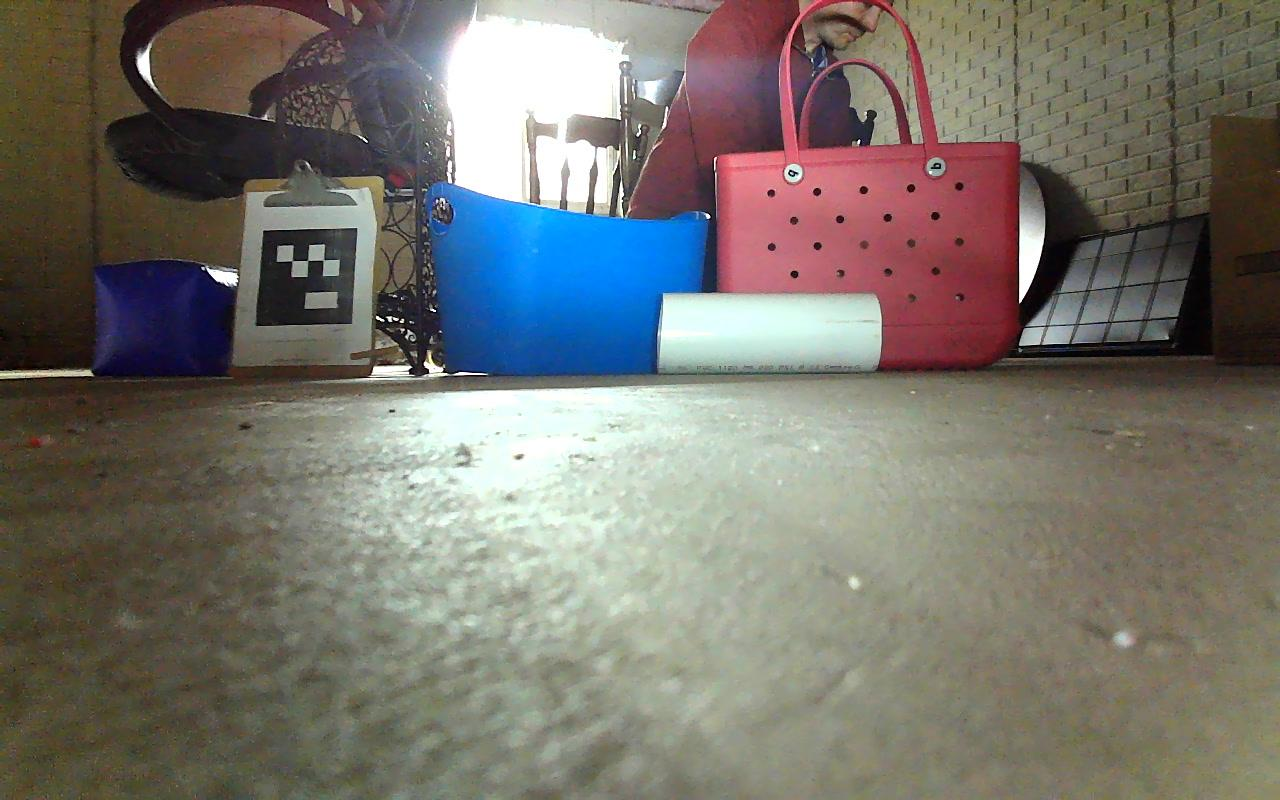coral: (645, 280, 892, 385)
